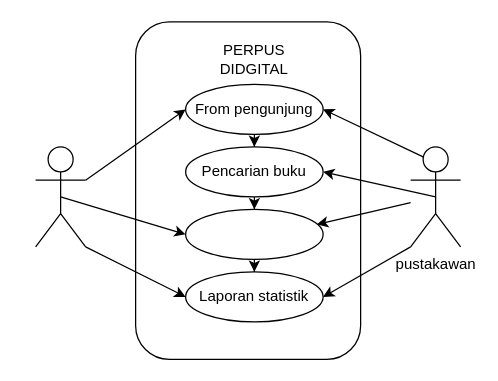
The diagram is 498 pixels wide and 381 high, and some of its shapes have lost their labels. The shapes that lost their labels are listed below. From the top down, each one's centre as x and y in pixels, then its label:
point (60, 196): pengunjung
point (253, 233): Detail buku
